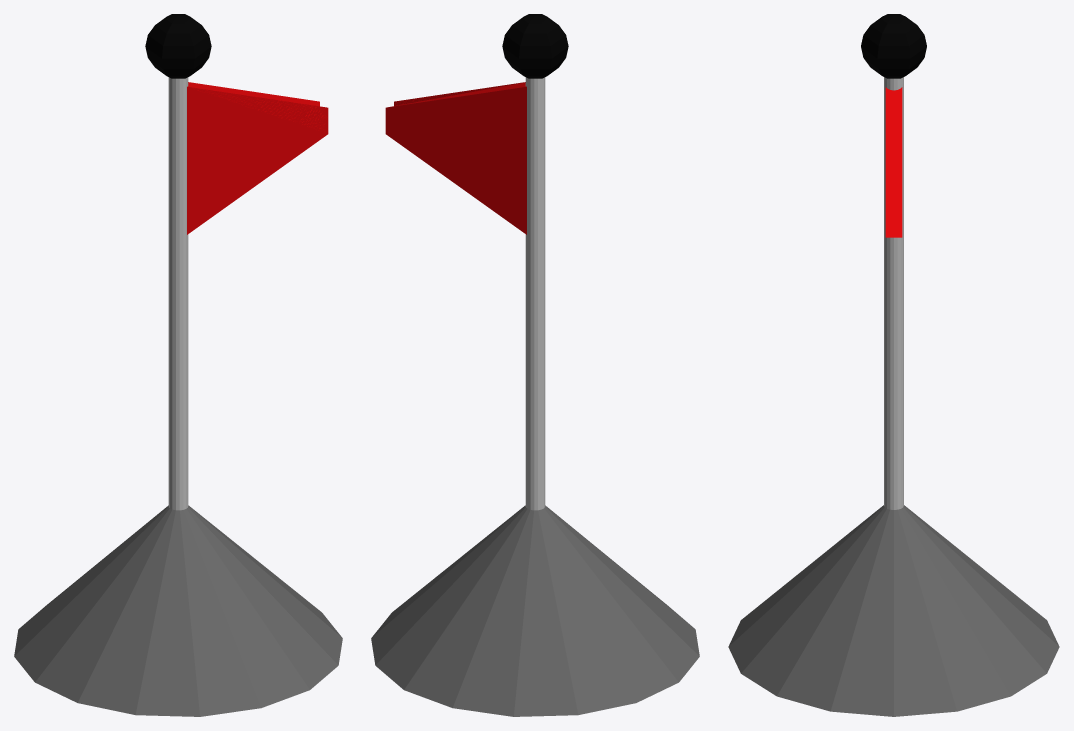
File: GoalFlag.fbx
3 views of the same model, side by side, from view 1: azimuth 30°, elevation 25°; view 2: azimuth 150°, elevation 25°; view 3: azimuth 270°, elevation 25° (orthographic).
Parts seen in each view (by area): view 1: Cube; view 2: Cube; view 3: Cube.
Boxes of the visible parts, x1,y1,x2,y2 form: Cube: [14, 14, 342, 716]; Cube: [371, 14, 699, 716]; Cube: [728, 14, 1059, 716].
Bounding box in the file's own units: 1.01 × 2.1 × 1.
